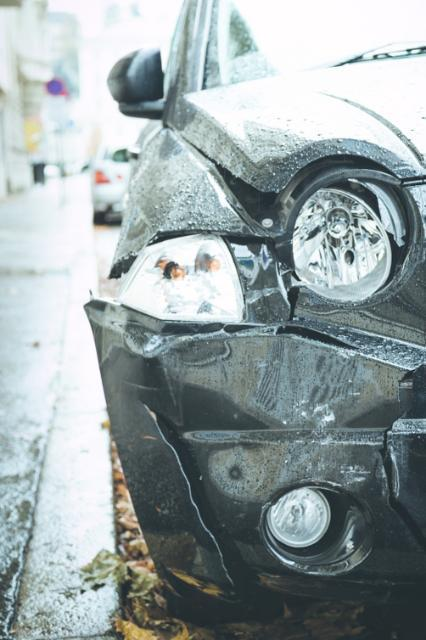Bonnet: (155, 36, 426, 208)
Bumper: (87, 308, 426, 601)
Light: (243, 162, 426, 309), (60, 235, 258, 325)
